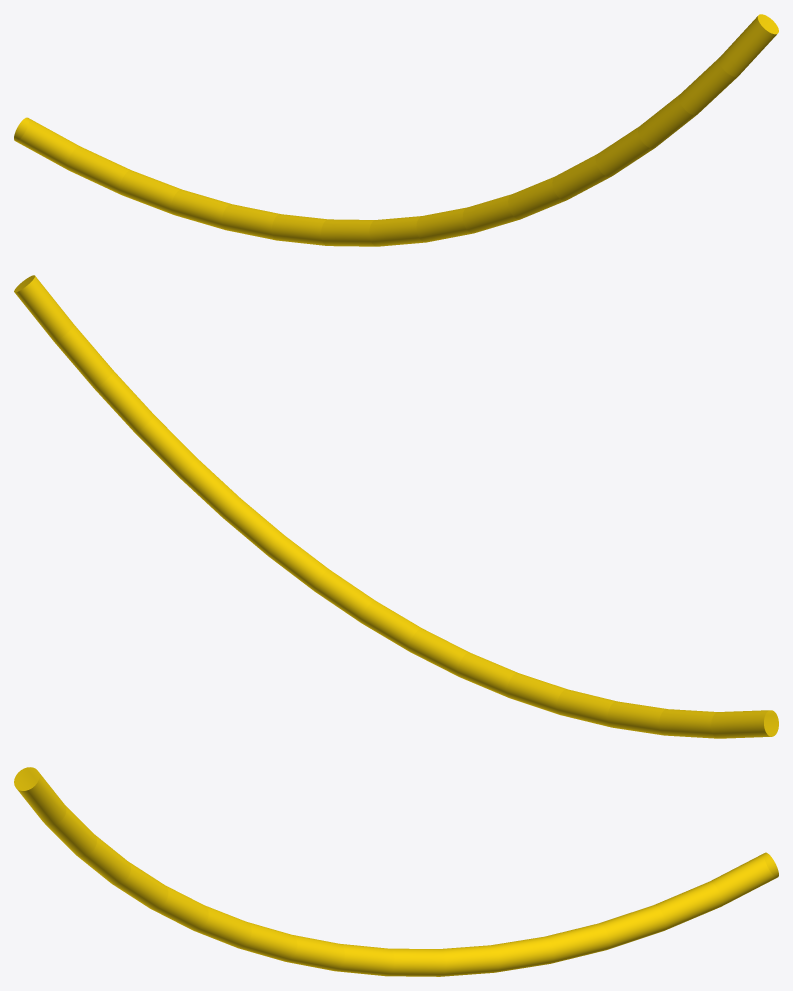
File: Event_421127236_track_43.fbx
3 renders of one model, top to bottom at view 1: azimuth 30°, elevation 25°; view 2: azimuth 210°, elevation 25°; view 3: azimuth 270°, elevation 25°, orthographic. The views are drawn at different scales.
Parts seen in each view (by area): view 1: Model; view 2: Model; view 3: Model.
Boxes of the visible parts, box(x1,y1,x2,y2) form: Model: box(14, 14, 778, 246); Model: box(14, 275, 778, 738); Model: box(14, 767, 778, 976).
Bounding box in the file's own units: 0.7046 × 0.5353 × 1.1.
